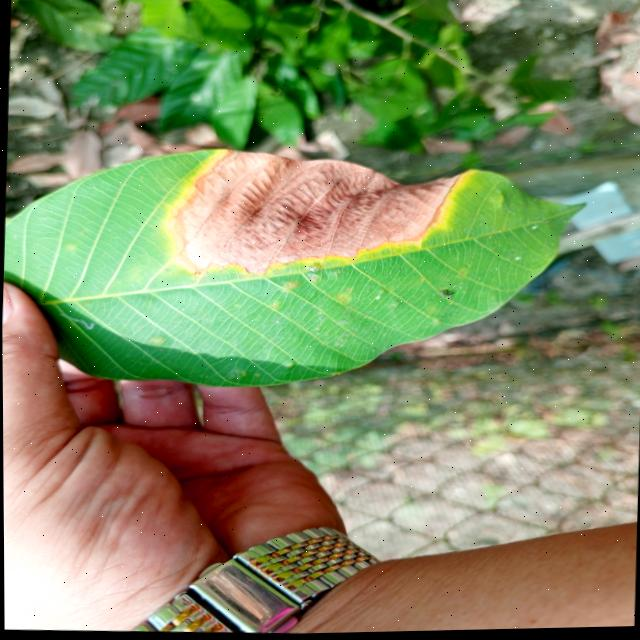Leaf-Blight: (170, 143, 461, 285)
